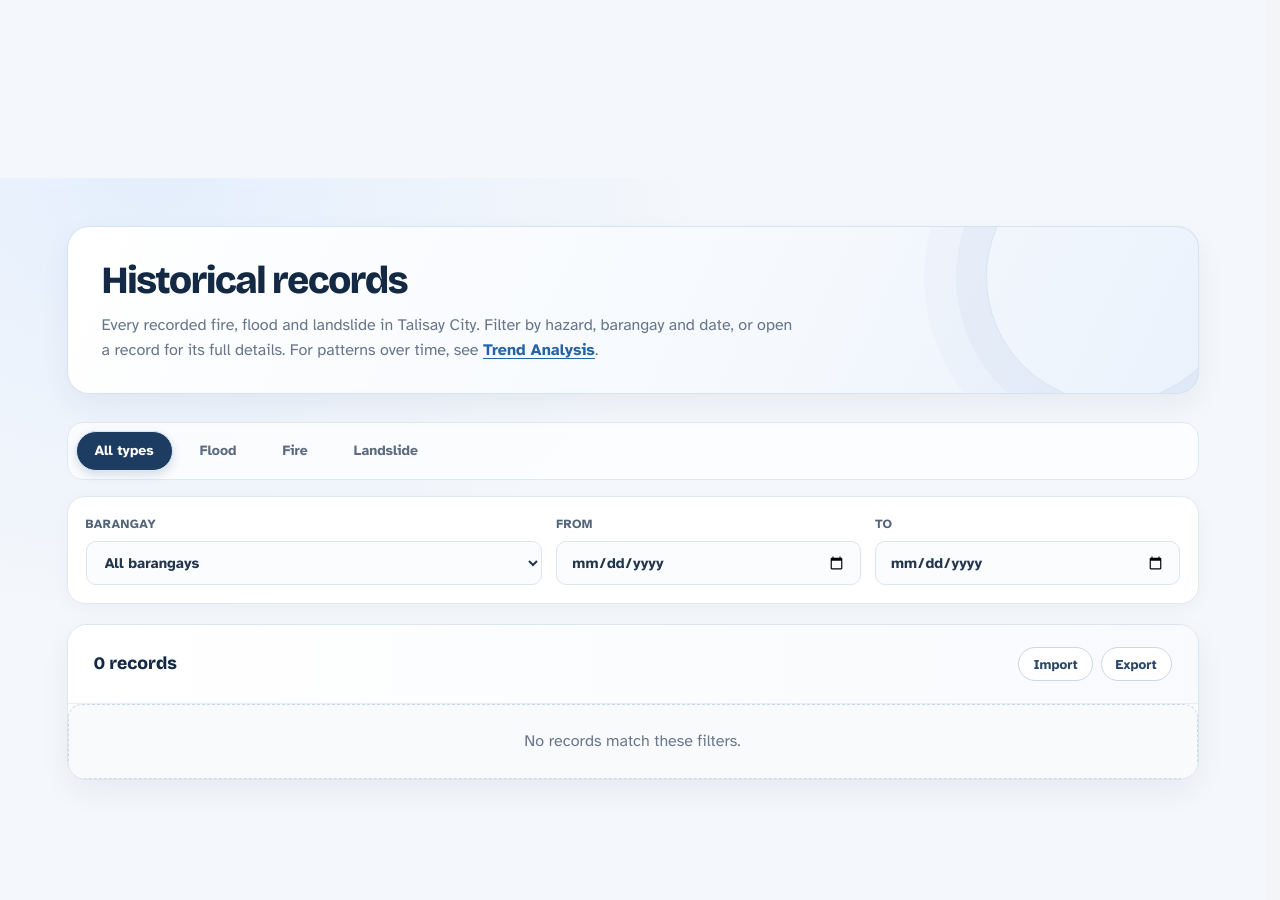
nothing ticked, nothing to download; a failure is shown and the window stays
(page scrolled)
Click the tab "Fire" at point(295, 451), box [263,431,327,471]
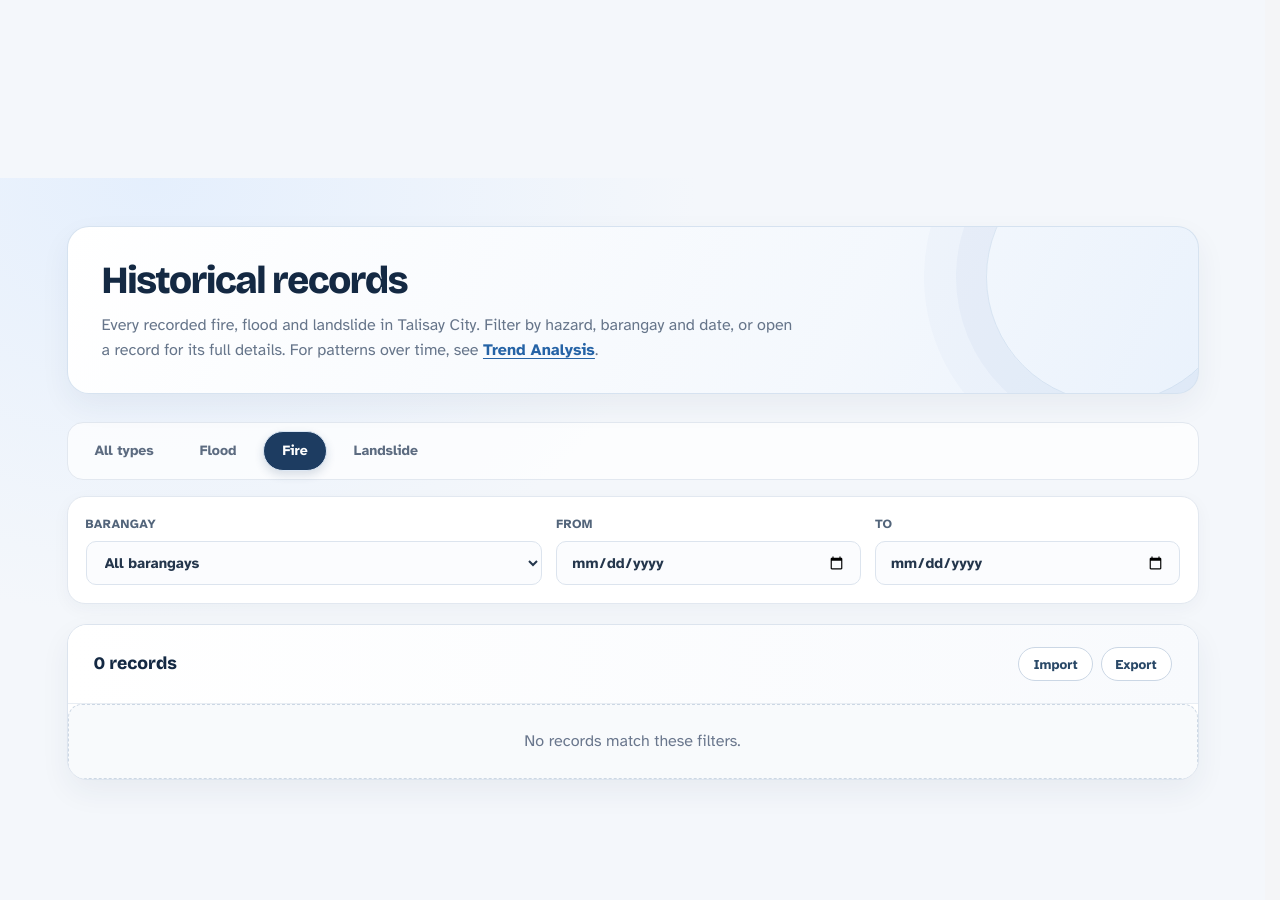
Click the button "Export" at point(1136, 664), box [1100,647,1172,681]
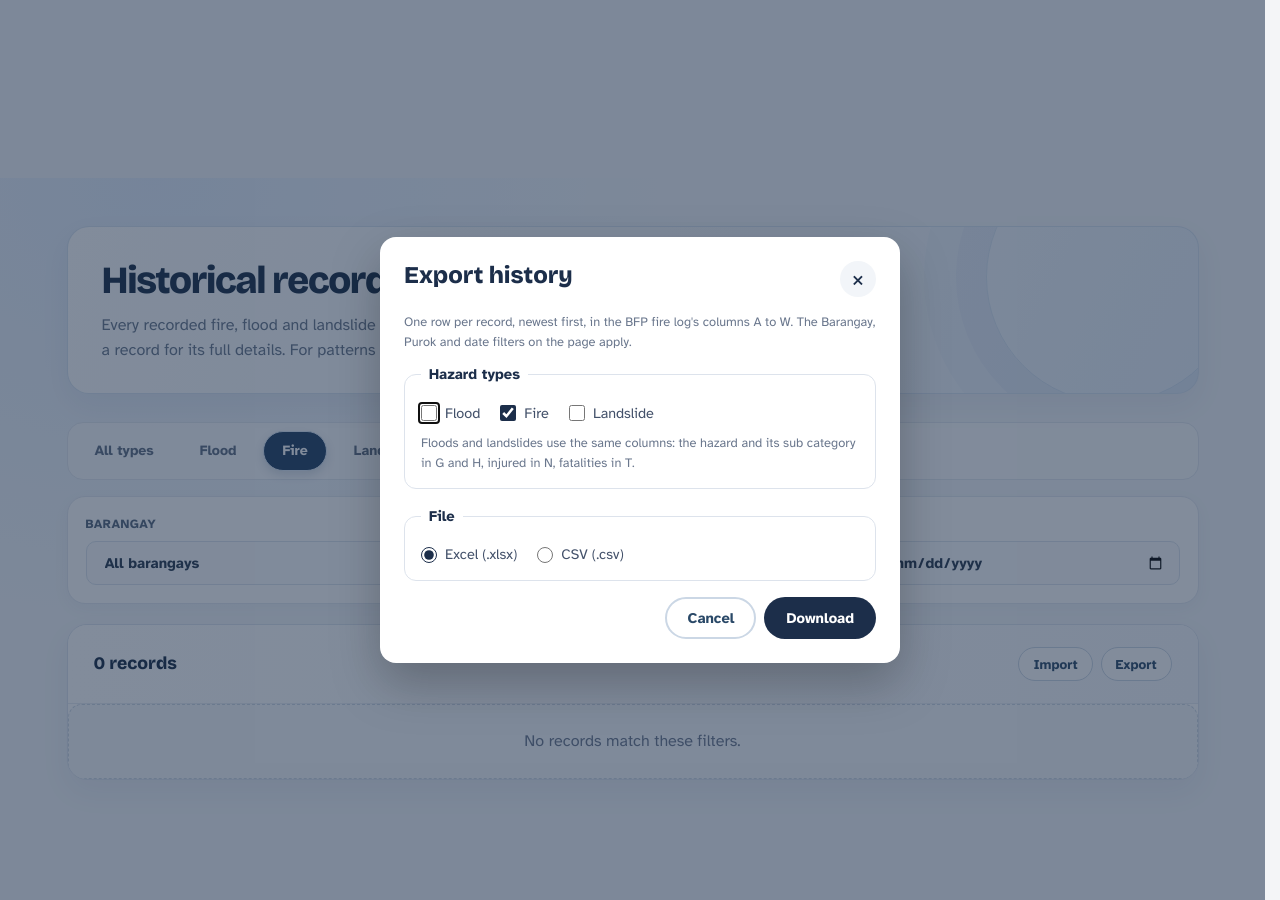
Click the checkbox labelled "Fire" at point(508, 413), box [500,405,516,421]
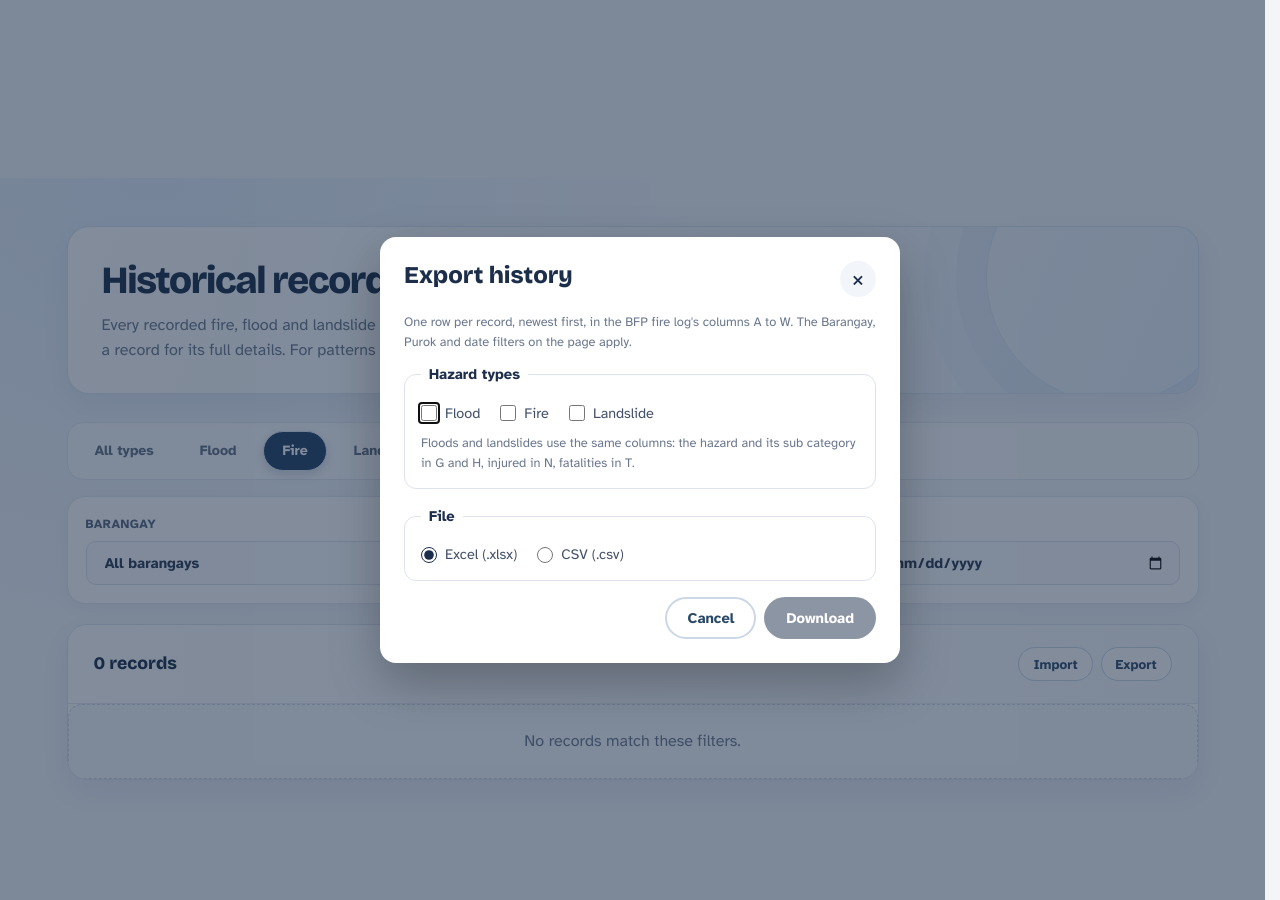
Now the button "Download" is disabled, box [764,597,876,639]
Click the checkbox labelled "Landslide" at point(577, 413), box [569,405,585,421]
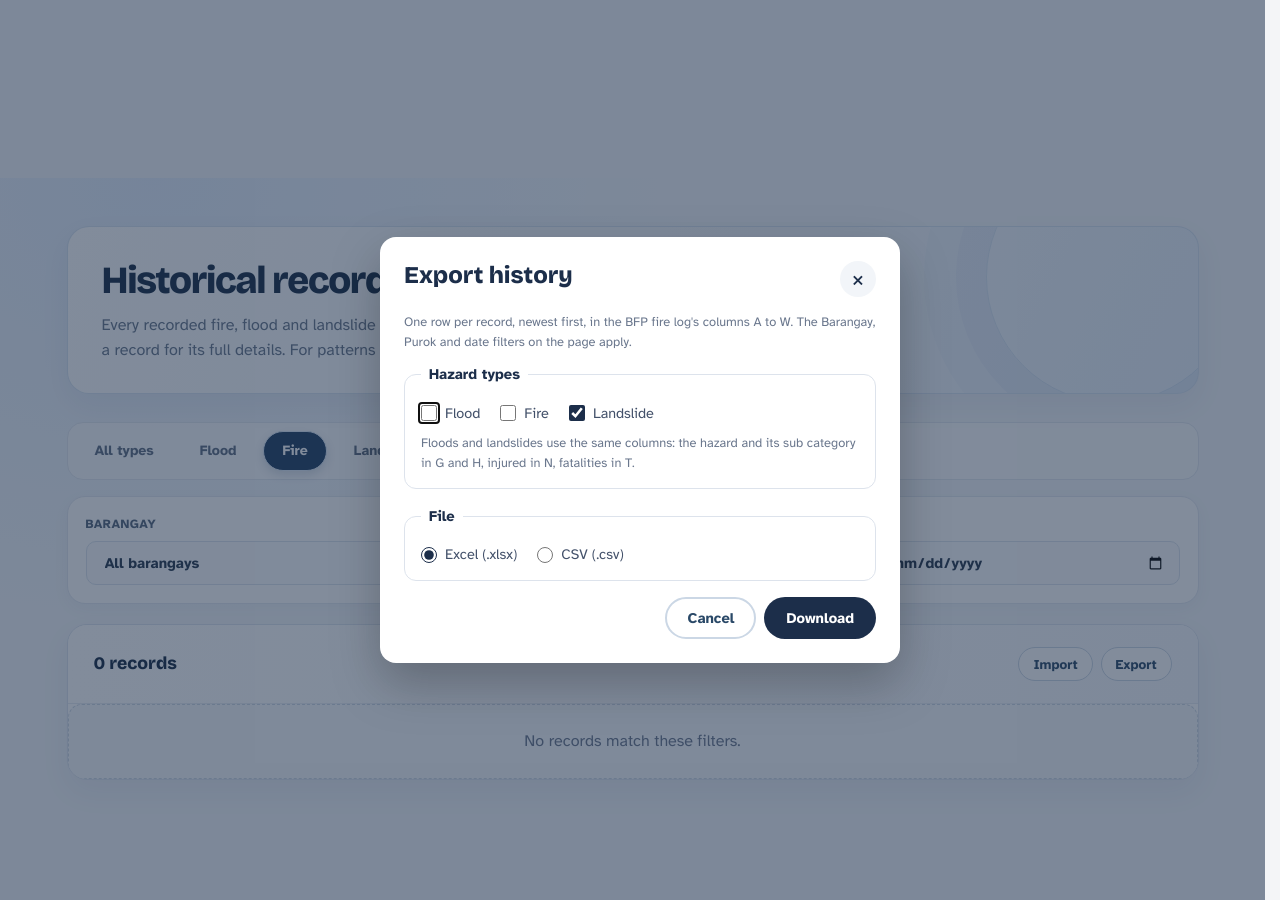
Click the button "Download" at point(820, 618), box [764,597,876,639]
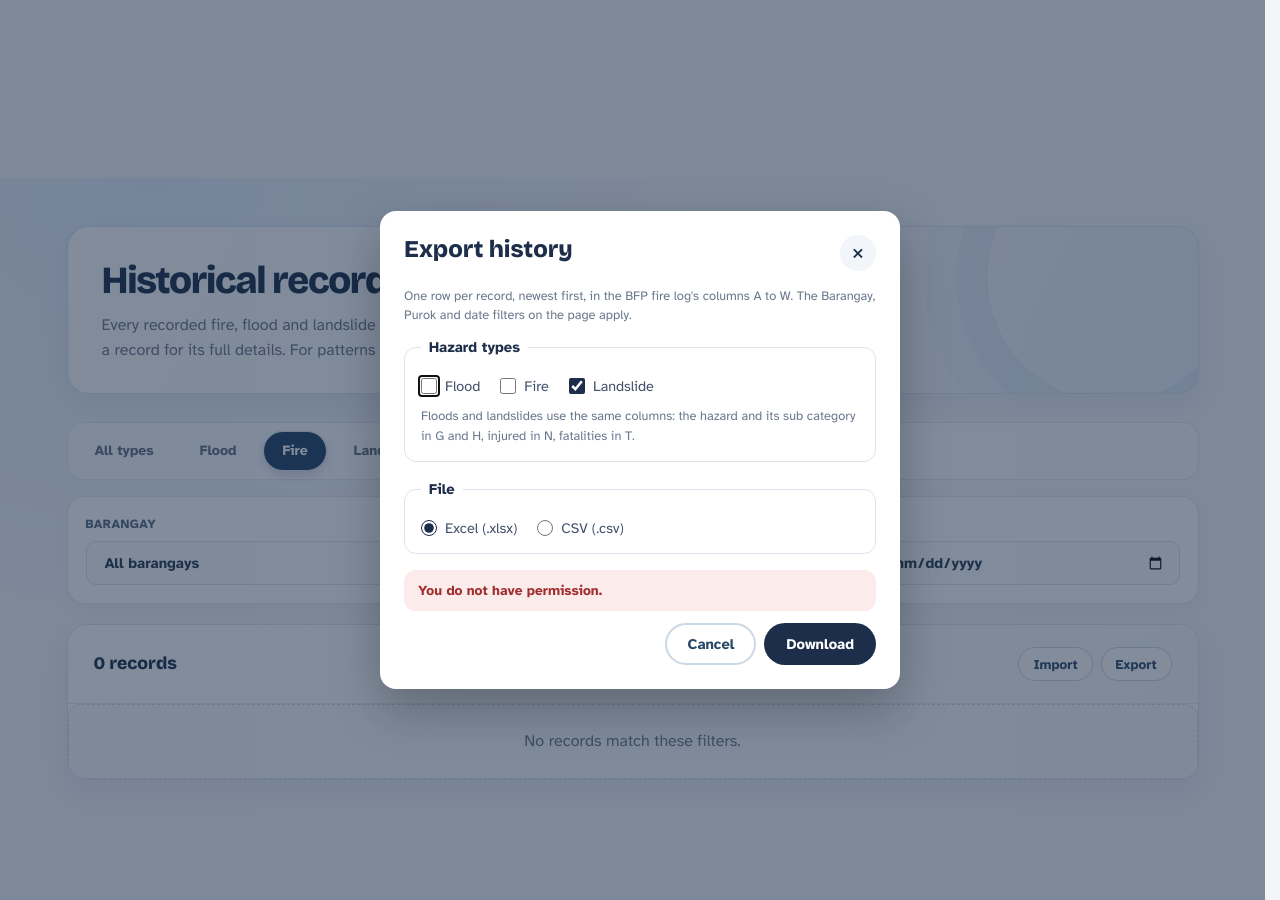
Now the message "You do not have permission." is shown, box [404,570,876,611]
